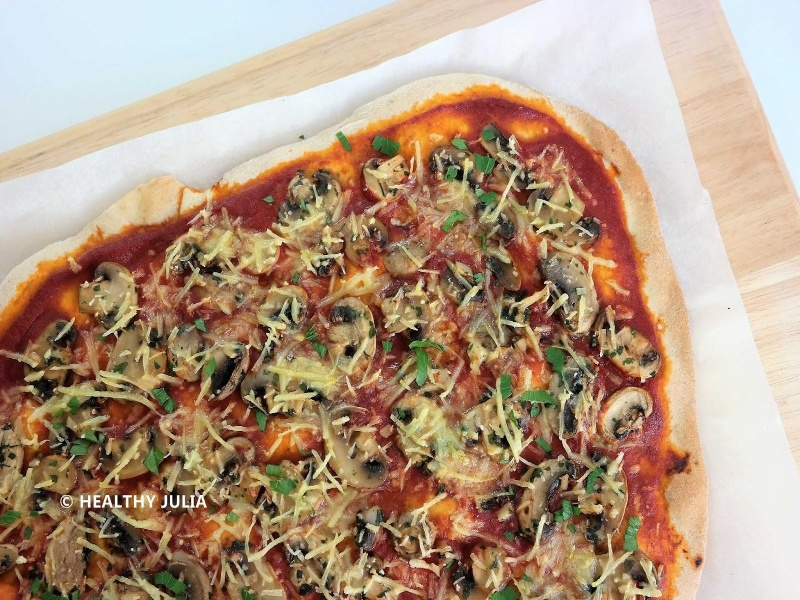champignon: (321, 400, 400, 491), (74, 259, 142, 334), (321, 296, 385, 375), (595, 384, 658, 445), (600, 321, 664, 381)
